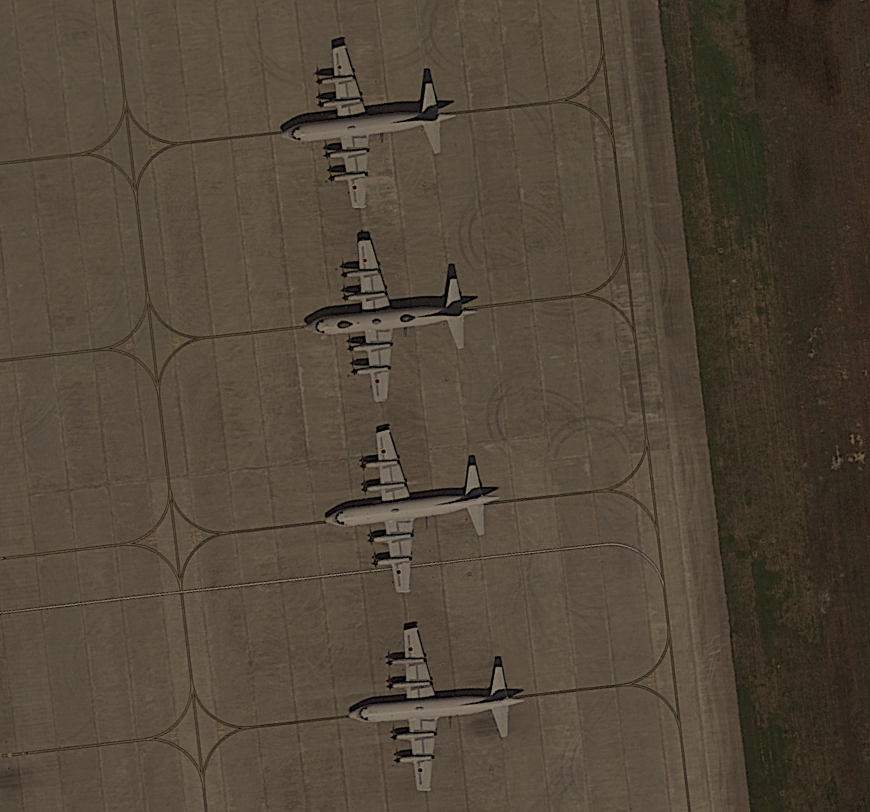A9: (274, 33, 472, 215), (295, 225, 493, 407), (315, 417, 513, 599), (344, 615, 542, 797)
